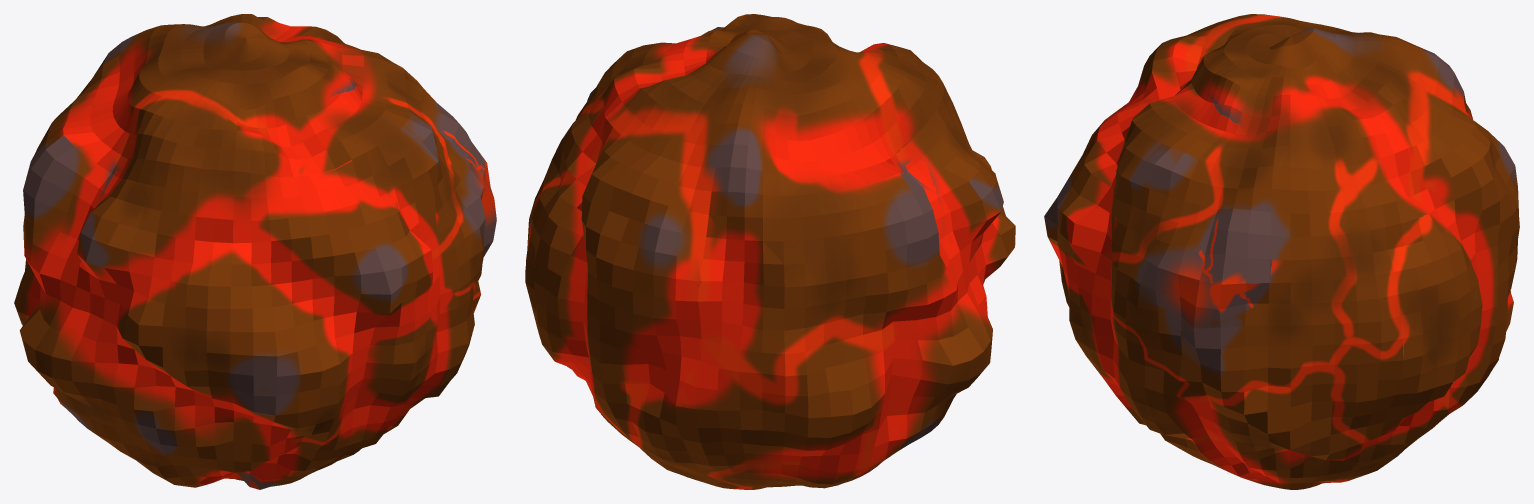
File: Lava super fire.fbx
3 renders of one model, left to right at view 1: azimuth 30°, elevation 25°; view 2: azimuth 150°, elevation 25°; view 3: azimuth 270°, elevation 25°, orthographic. The views are drawn at different scales.
Parts seen in each view (by area): view 1: Sphere; view 2: Sphere; view 3: Sphere.
Part boxes in pixels (x1=…): Sphere: x1=14, y1=14, x2=496, y2=489; Sphere: x1=525, y1=14, x2=1015, y2=489; Sphere: x1=1044, y1=14, x2=1519, y2=489.
Size of the model in its own units: 6.65 by 6.71 by 6.55.
